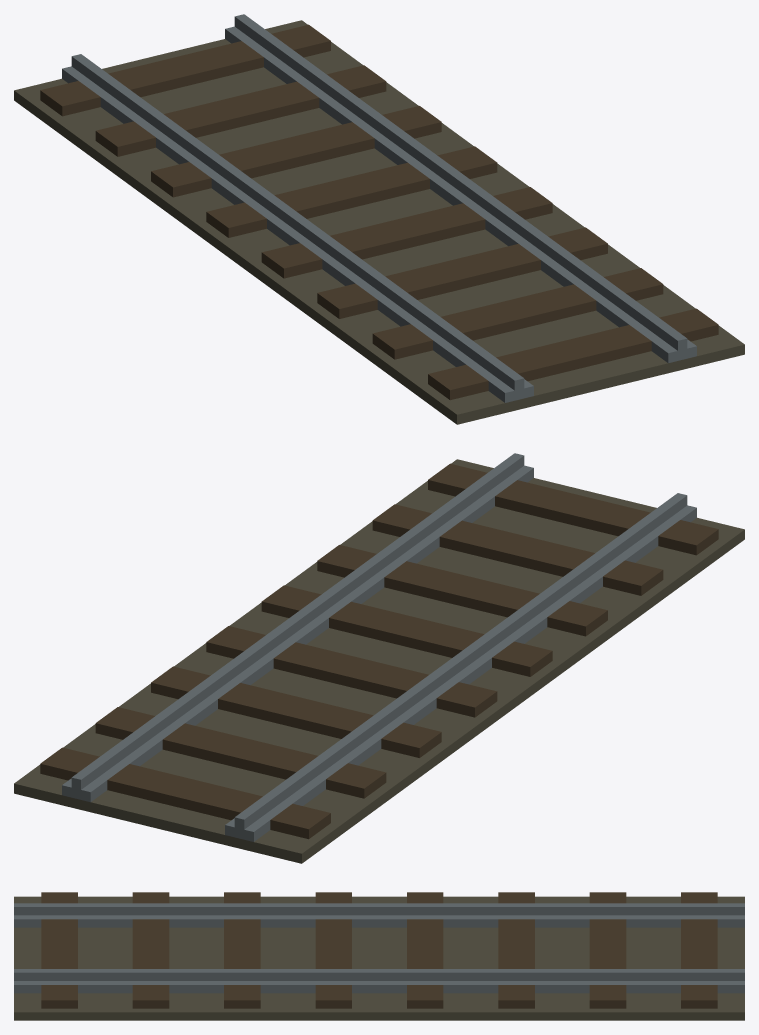
File: railway_straight2.obj
3 renders of one model, top to bottom at view 1: azimuth 30°, elevation 25°; view 2: azimuth 150°, elevation 25°; view 3: azimuth 270°, elevation 25°, orthographic. The views are drawn at different scales.
Size of the model in its own units: 3 by 0.3 by 8.
Materials: 1 (1 with a texture image).
